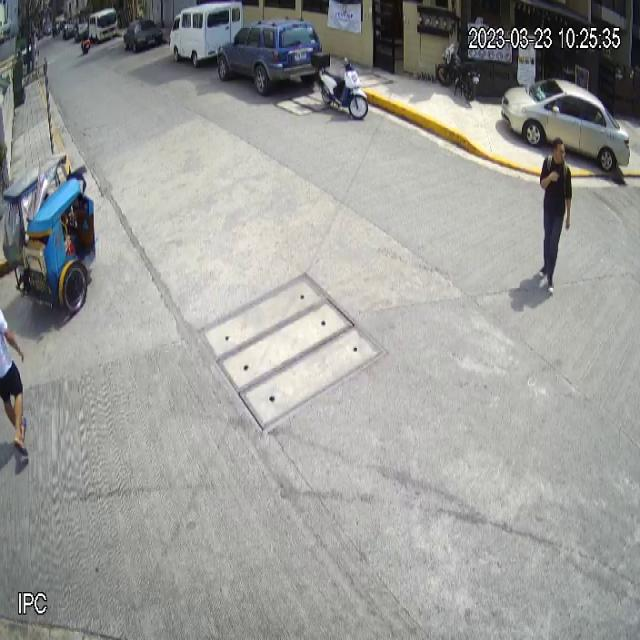Car: (501, 76, 631, 171), (219, 15, 325, 94)
Motorcycle: (312, 48, 369, 120)
Tricycle: (2, 152, 96, 315)
Van: (170, 1, 245, 67)
